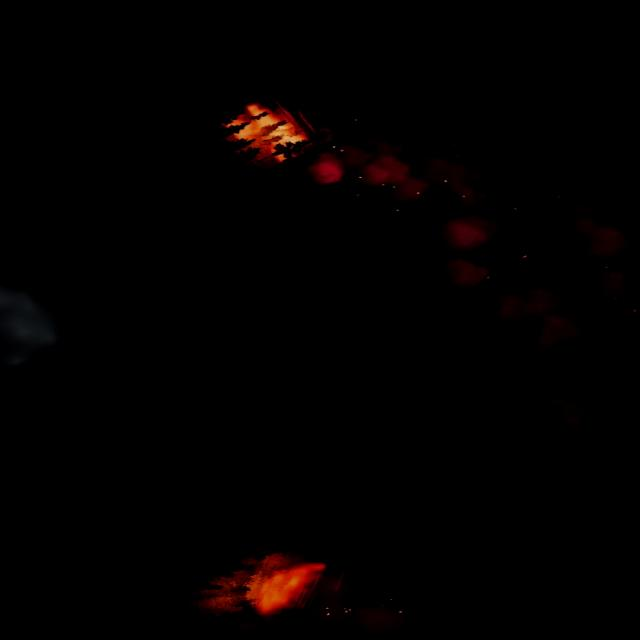fire: (242, 556, 338, 620), (229, 97, 308, 166)
smoke: (308, 116, 510, 311), (0, 261, 70, 376), (566, 201, 638, 302), (492, 285, 578, 356), (326, 599, 397, 640), (542, 398, 582, 431)
